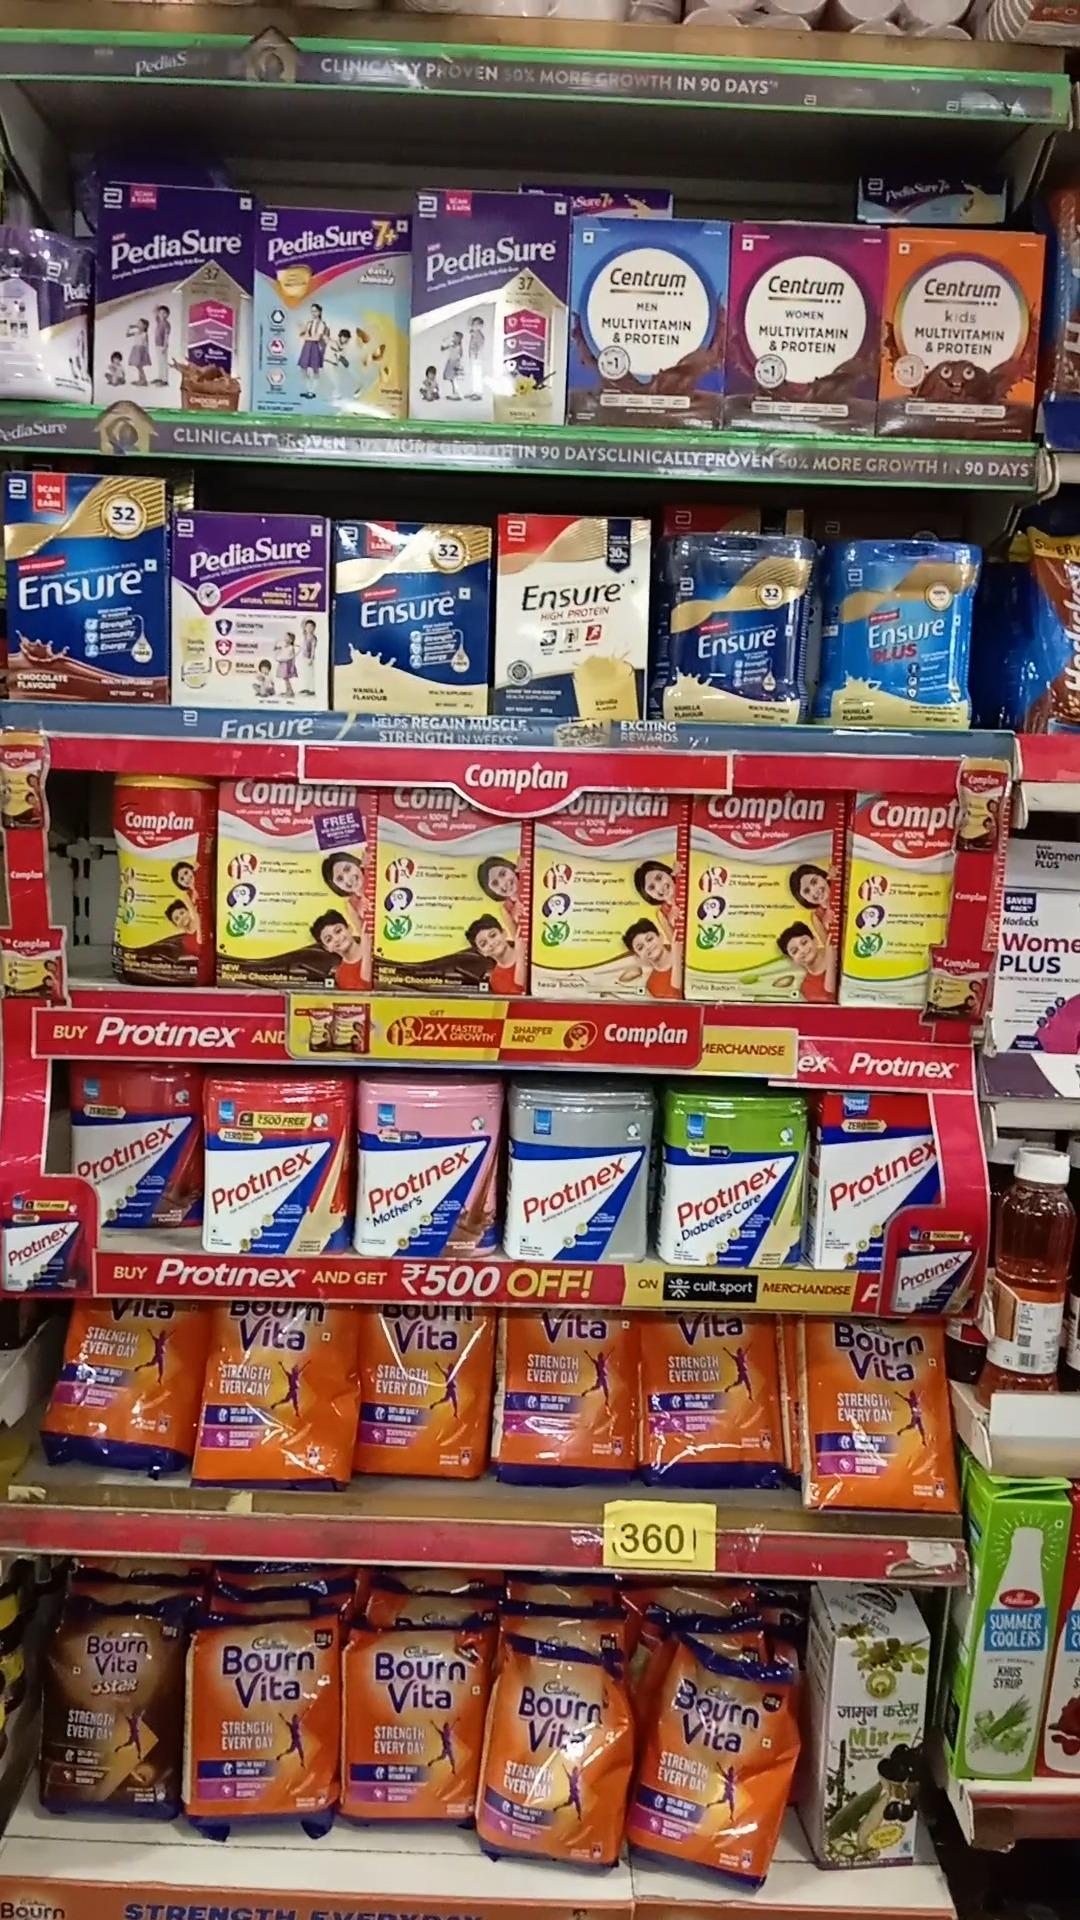BOURN_VITA_750_G_POUCH: (629, 1630, 771, 1867), (186, 1610, 335, 1829), (488, 1634, 622, 1867), (811, 1316, 960, 1516), (203, 1294, 349, 1490), (347, 1618, 475, 1821), (642, 1317, 782, 1485), (500, 1312, 632, 1486), (359, 1307, 487, 1480), (62, 1300, 187, 1466)
BOURN_VITA_FIVE_STAR_MAGIC_750_G_POUCH: (38, 1596, 178, 1818)
COMPLAN_CHOCOLATE_500_GMS_JAR: (108, 774, 212, 985)
COMPLAN_CHOCOLATE_500_GMS_PACK: (218, 779, 373, 992), (380, 789, 530, 993)
COMPLAN_CREAMY_CLASSIC_500_G_PACK: (844, 785, 931, 1011)
COMPLAN_KESAR_BADAM_500_GMS_PACK: (535, 806, 682, 998)
COMPLAN_PISTA_BADAM_500_GMS_PACK: (691, 790, 839, 1002)
ENSURE_VANILLA_400_G_PACK: (497, 512, 647, 717), (335, 522, 487, 713)
PEDIASURE_CHOCOLATE_500_G_PACK: (96, 186, 252, 409)
PEDIASURE_VANILLA_500_G_PACK: (411, 191, 564, 421)
PROTINEX_CHOCOLATE_400_G_JAR: (73, 1065, 196, 1230)
PROTINEX_ORIGINAL_400_G_JAR: (509, 1085, 645, 1265)
PROTINEX_VANILLA_400_G_JAR: (206, 1076, 351, 1255)
